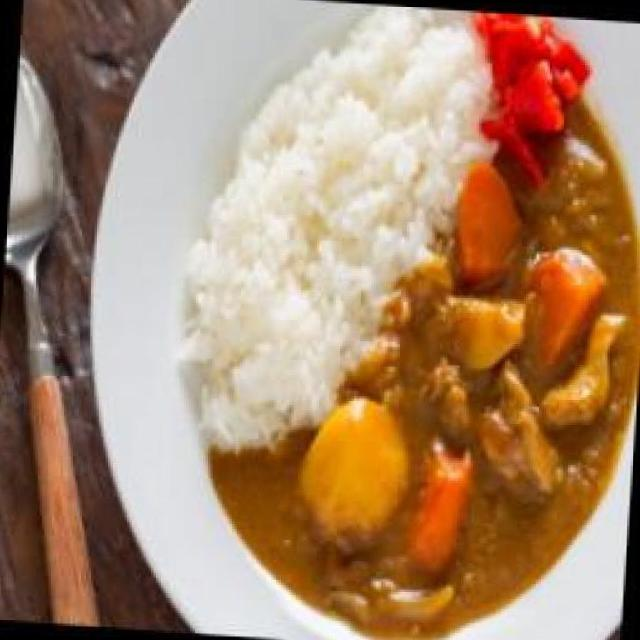curry: (203, 93, 634, 585)
rice: (210, 54, 473, 326)
